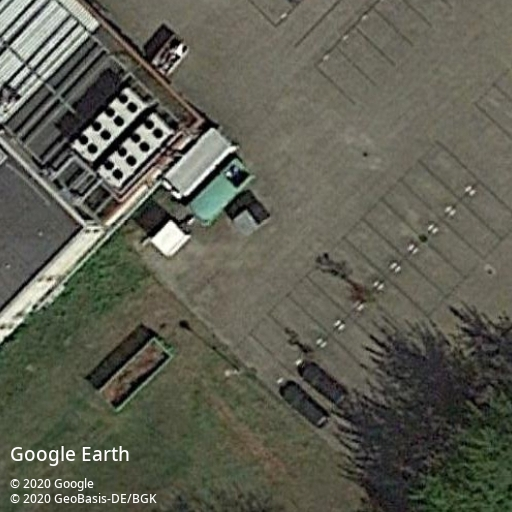Chiller: (97, 112, 173, 188), (73, 86, 148, 162)
